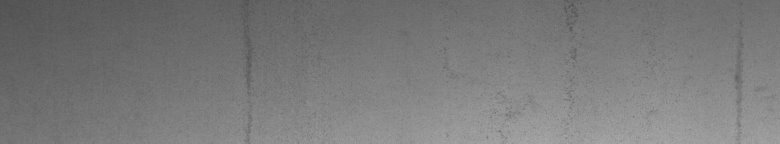ib: (501, 4, 584, 120)
